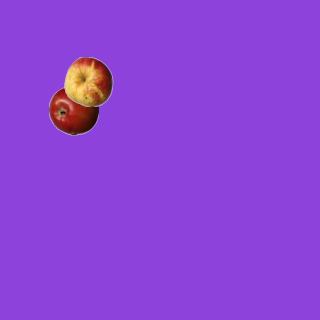Apple Braeburn: (48, 85, 98, 135)
Apple Red Yellow 1: (63, 56, 113, 106)
